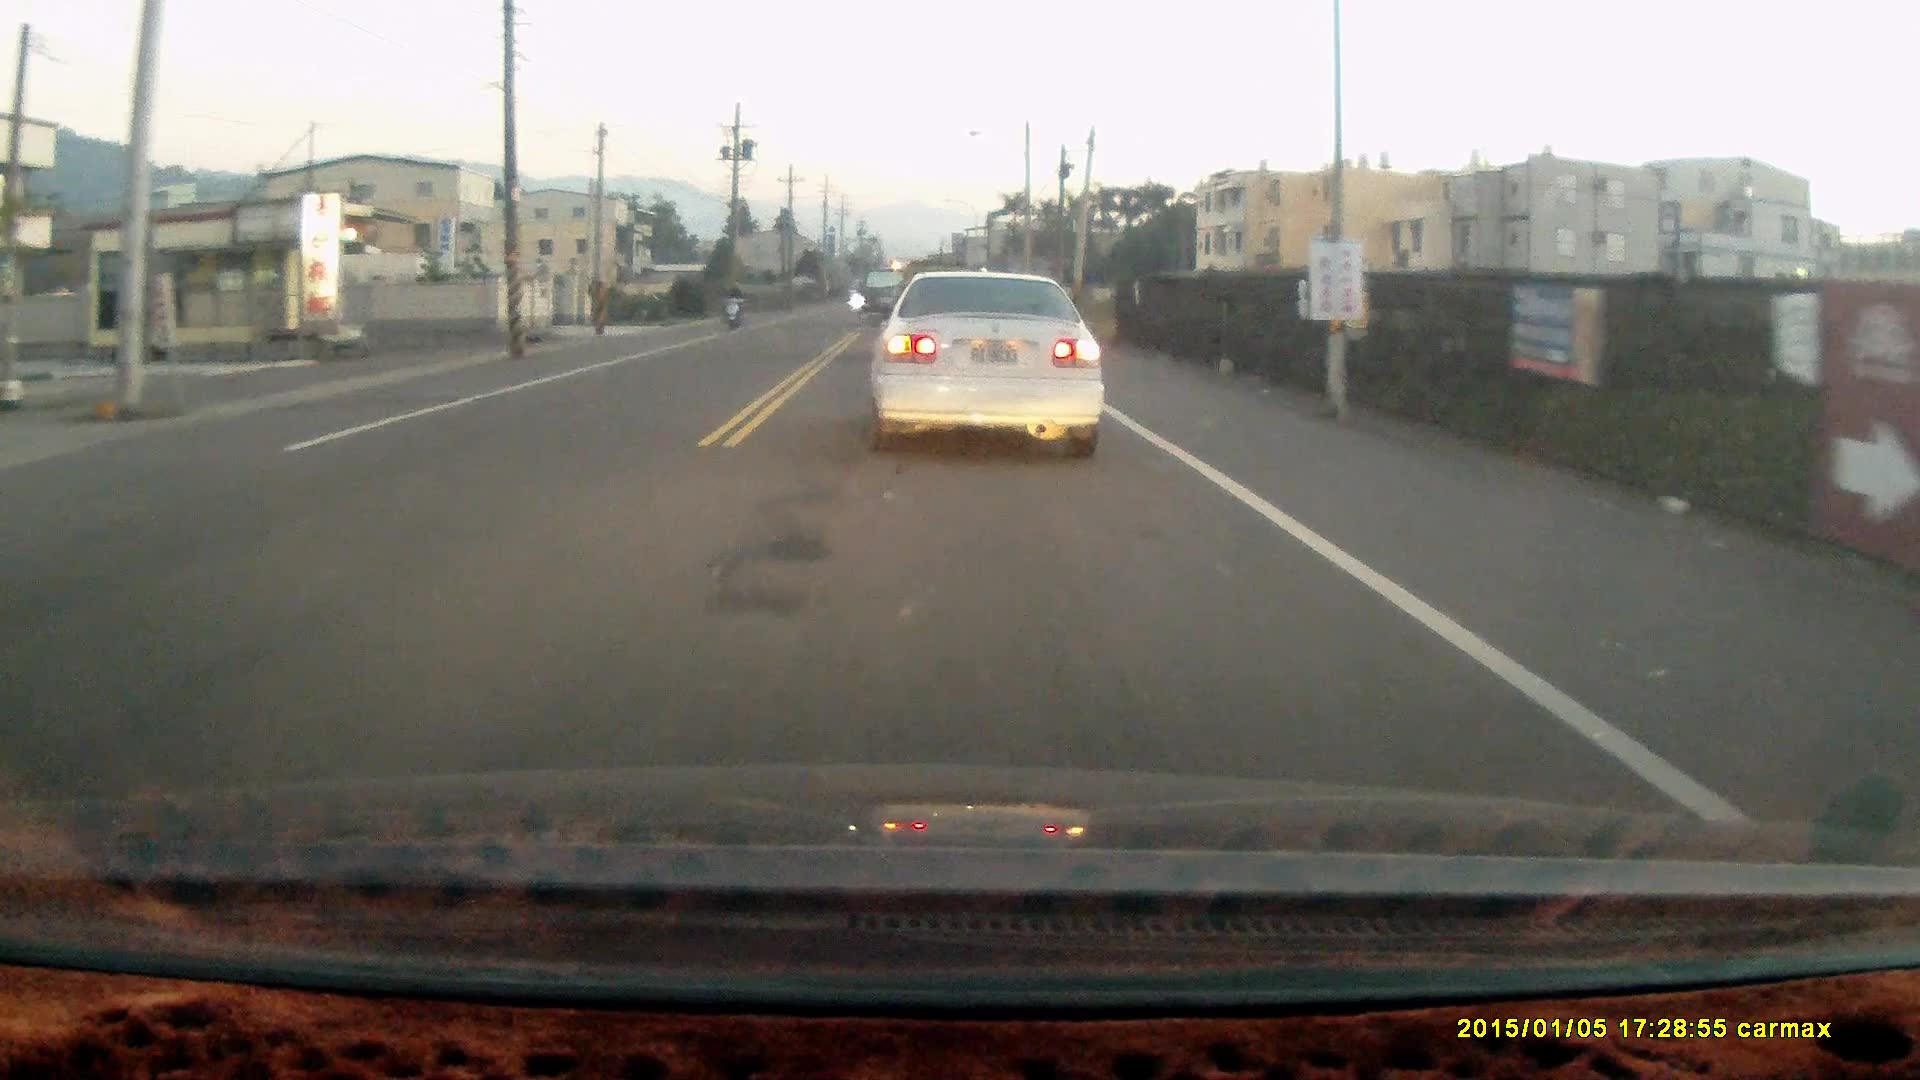rider: (719, 280, 743, 331)
vehicle: (864, 270, 1106, 460)
